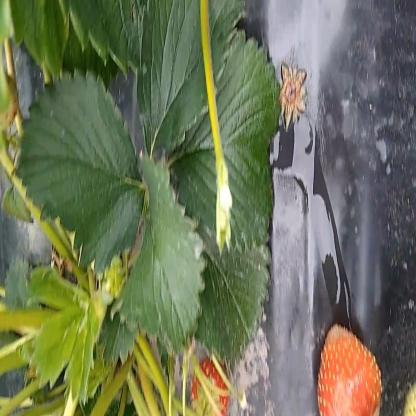ripe: (316, 315, 386, 416), (188, 357, 230, 416)
